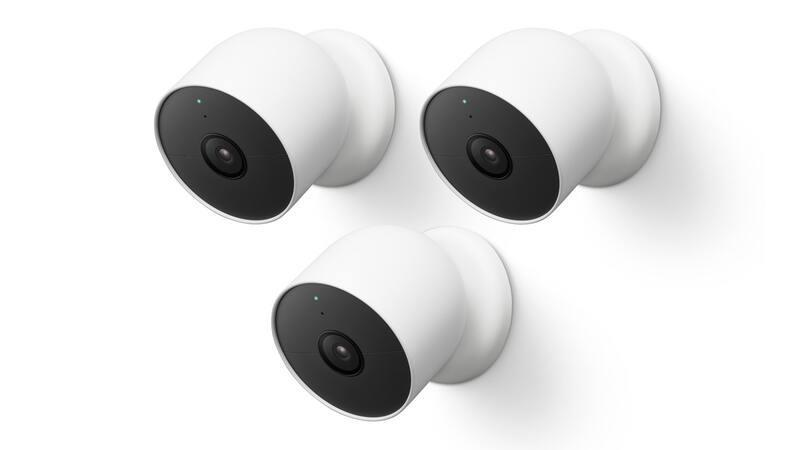nest: (414, 17, 667, 229), (266, 220, 520, 428), (146, 15, 396, 224)
